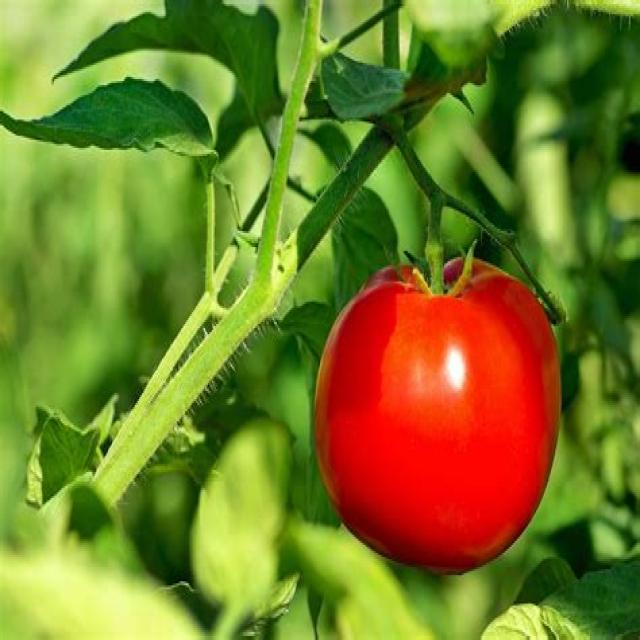Tomato: (311, 260, 561, 576)
